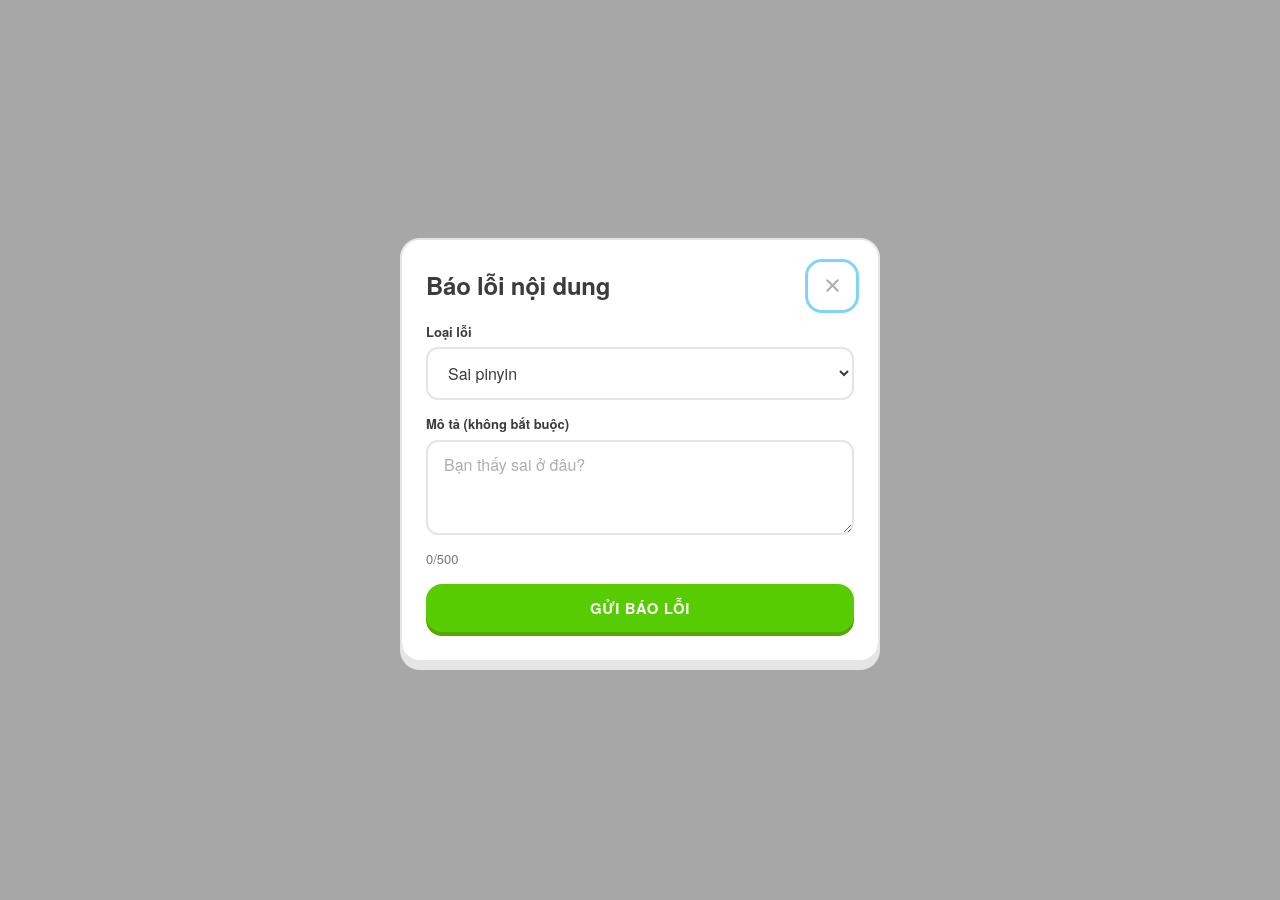
it: ReportSheet › có 7 loại lỗi, mô tả không bắt buộc, bộ đếm ký tự
The image size is (1280, 900).
Expected: the text "0/500" is shown, [426, 549, 458, 568]
In the text box labelled "Mô tả (không bắt buộc)": (640, 488) [426, 440, 854, 535], type "sai rồi"
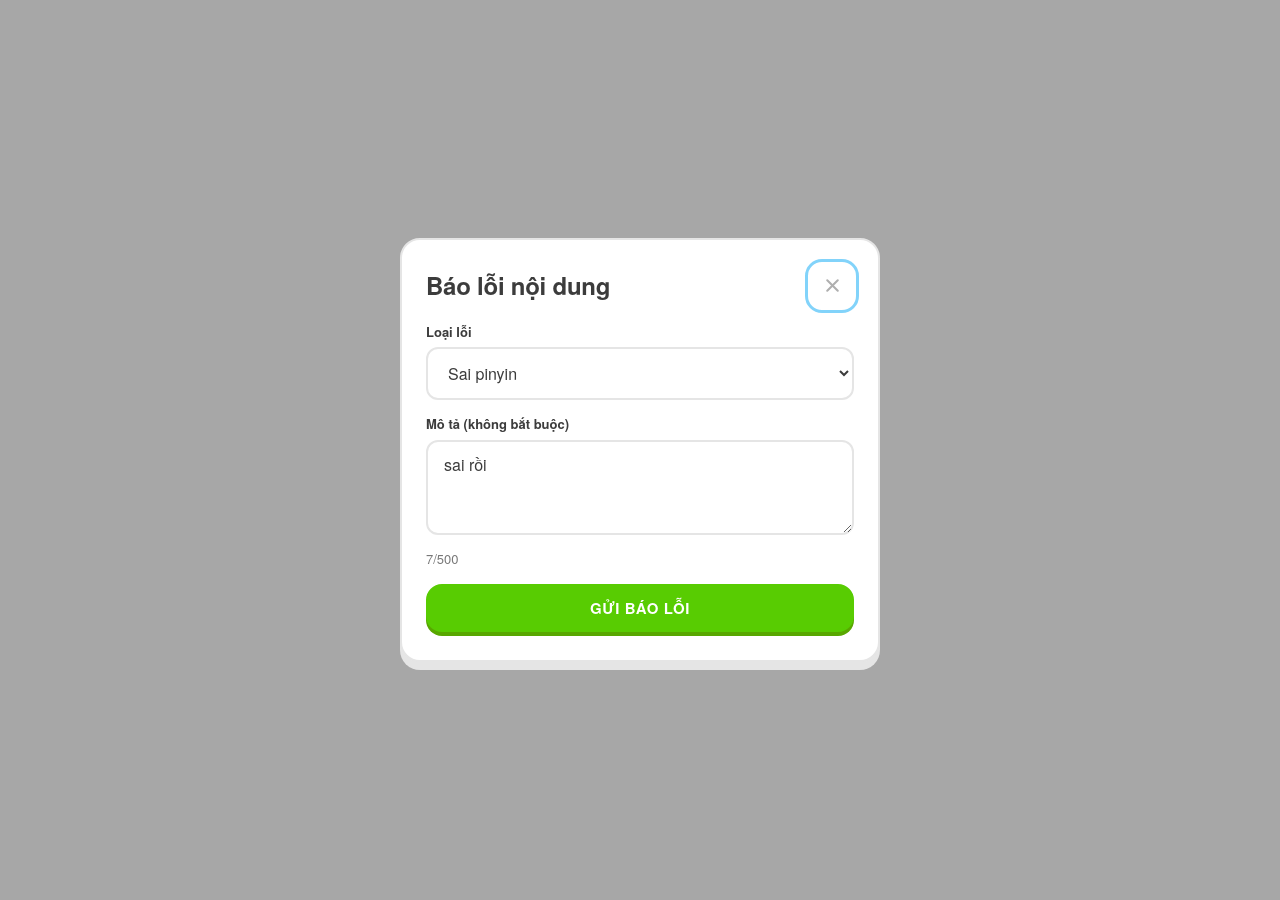
Expected: the text "7/500" is shown, [426, 549, 458, 568]
